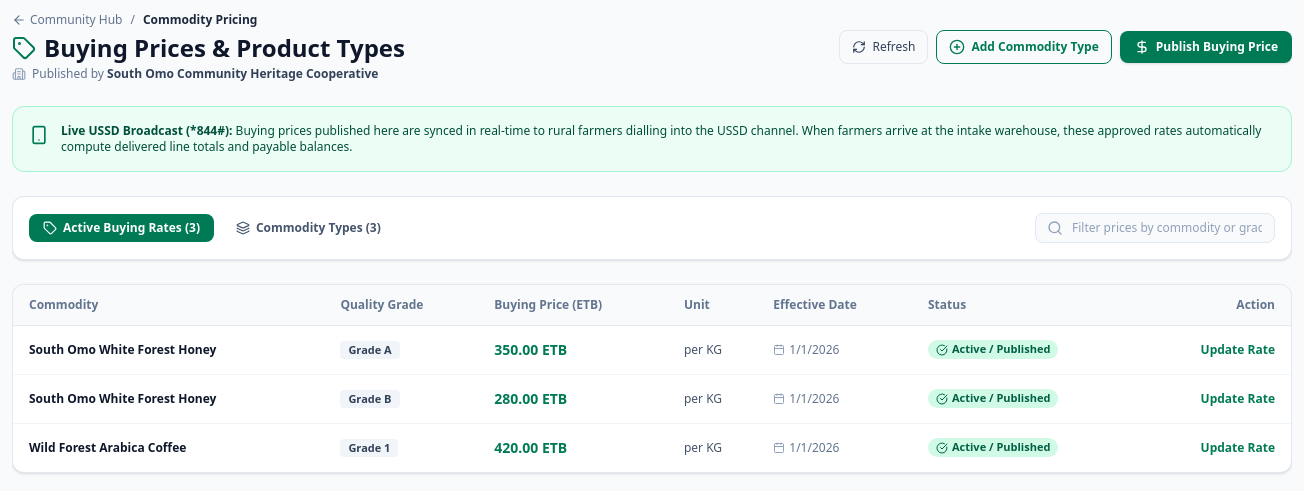
Test case: Product Types and Published Buying Prices (F-803) › switches between Buying Rates tab and Commodity Types catalog tab
Check: the table with test id "buying-prices-table" is shown, box top-left (13, 285), bottom-right (1291, 472)
Click the button with test id "tab-product-types".
click(308, 228)  # box top-left (222, 214), bottom-right (395, 242)
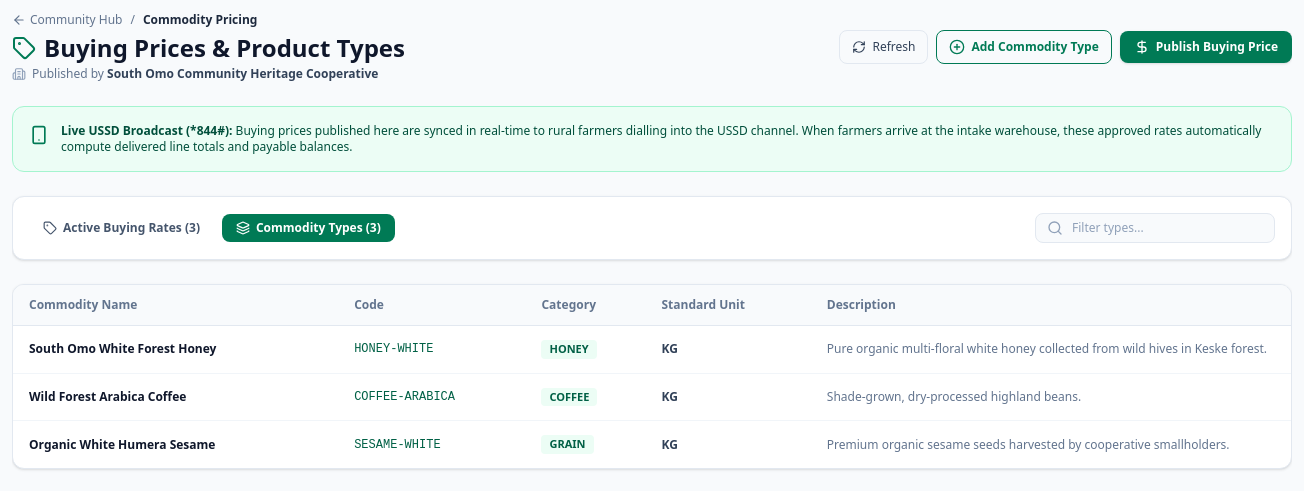
Check: the table with test id "product-types-table" is shown, box top-left (13, 285), bottom-right (1291, 468)
Check: the text "HONEY-WHITE" is shown, box top-left (342, 326), bottom-right (530, 373)
Check: the text "COFFEE-ARABICA" is shown, box top-left (342, 373), bottom-right (530, 421)
